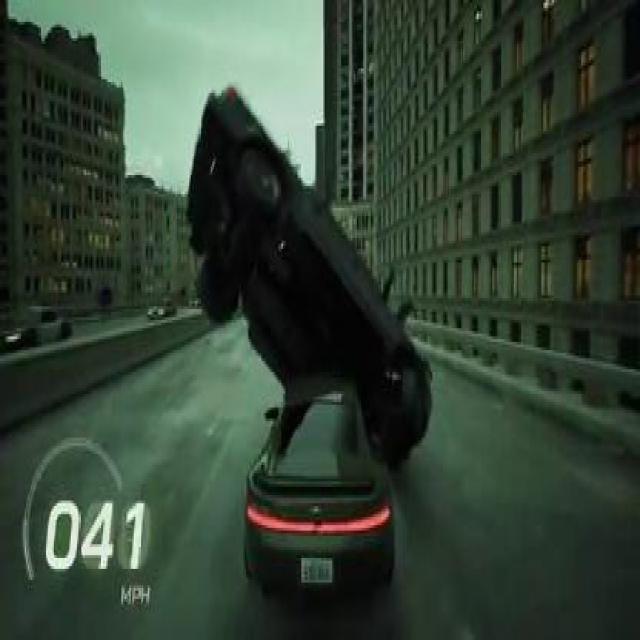accident: (183, 74, 437, 599)
